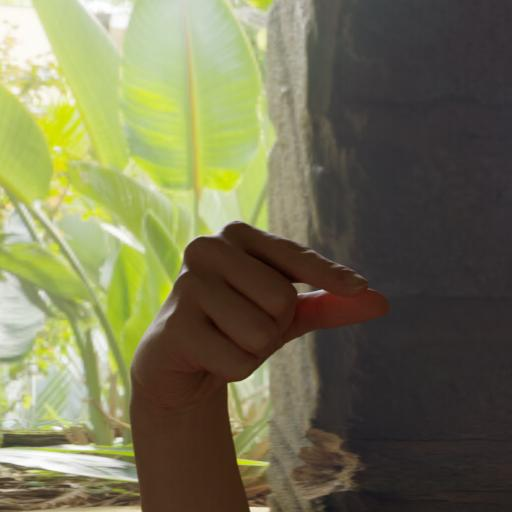G: (124, 216, 392, 412)
